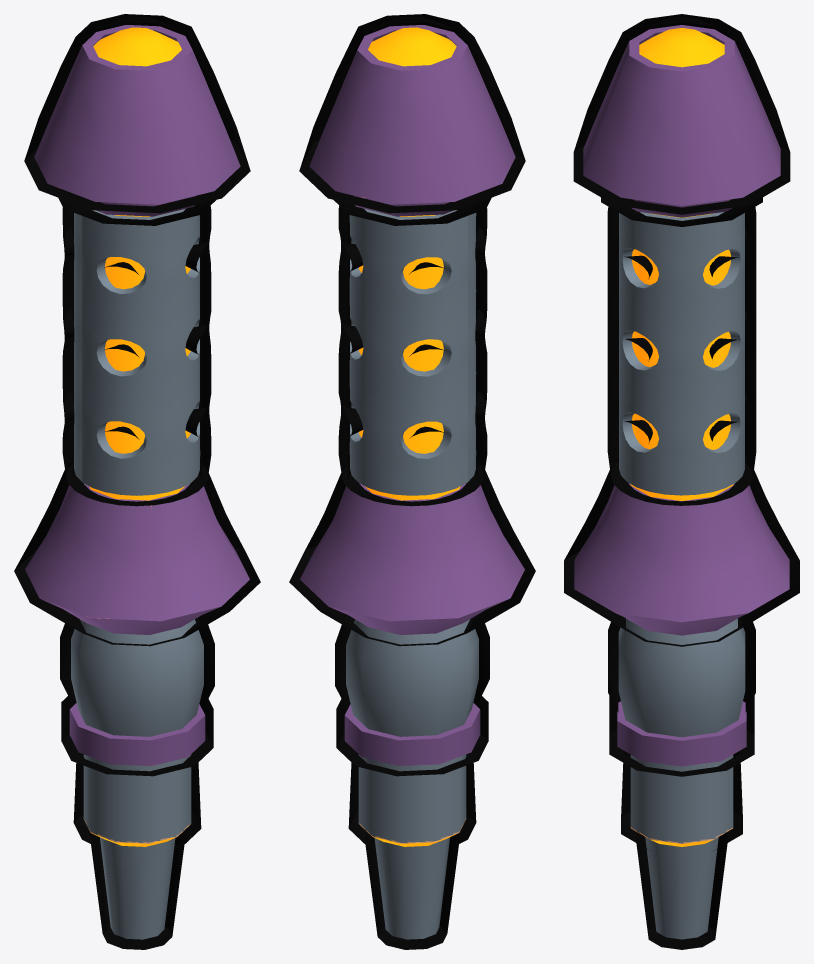
File: laserDEF1.fbx
3 renders of one model, left to right at view 1: azimuth 30°, elevation 25°; view 2: azimuth 150°, elevation 25°; view 3: azimuth 270°, elevation 25°, orthographic.
Visible parts, largest first — view 1: laser (×2); view 2: laser (×2); view 3: laser (×2).
Boxes of the visible parts, box(x1,y1,x2,y2) form: laser (×2): box(14, 14, 260, 949); laser (×2): box(289, 14, 535, 949); laser (×2): box(564, 14, 799, 949).
Bounding box in the file's own units: 2.13 × 8.62 × 2.02.
Materials: 2 (1 with a texture image).
